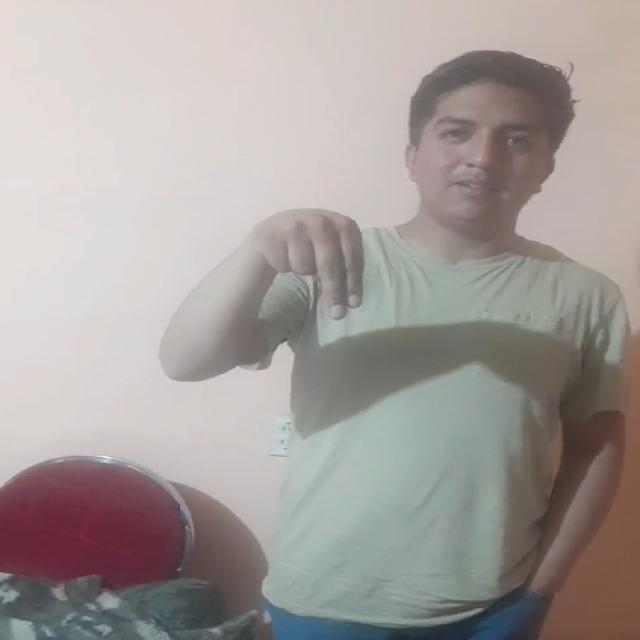N: (217, 189, 406, 343)
